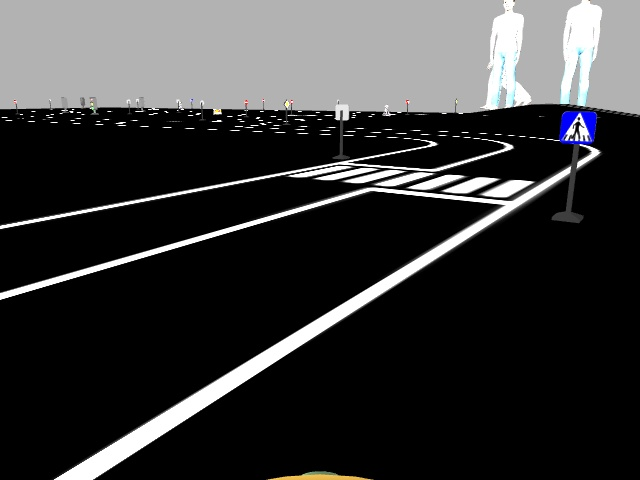Crosswalk: (562, 110, 594, 142)
